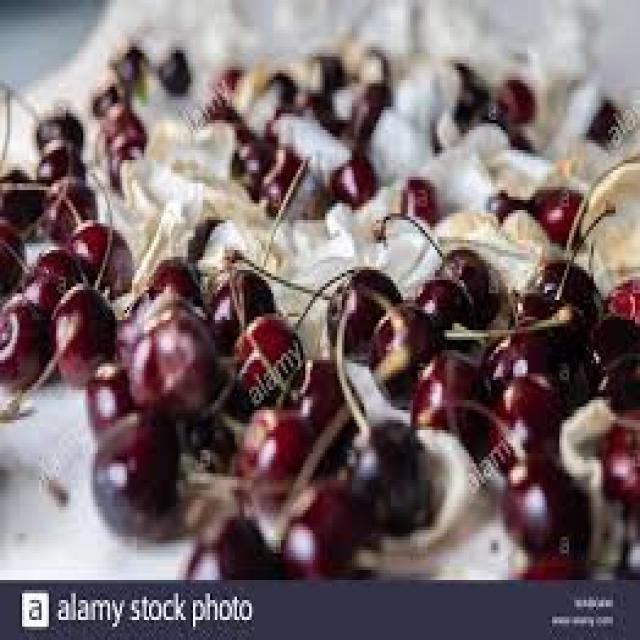organic waste: (476, 324, 589, 444), (90, 407, 181, 540), (125, 297, 218, 413), (347, 417, 432, 530), (276, 356, 362, 466), (501, 444, 584, 554), (279, 477, 376, 570), (230, 404, 320, 504), (410, 343, 486, 450), (501, 287, 584, 370), (325, 266, 398, 356), (234, 310, 300, 407), (486, 374, 557, 464), (366, 303, 435, 390), (49, 280, 110, 377), (183, 370, 247, 460), (66, 217, 132, 293), (210, 267, 269, 350), (210, 503, 279, 570), (432, 243, 486, 327), (523, 257, 601, 313), (252, 123, 303, 207), (17, 246, 86, 306), (410, 276, 469, 346), (39, 166, 98, 236), (0, 290, 44, 383), (601, 403, 637, 507), (530, 176, 581, 246), (584, 317, 637, 383), (588, 350, 638, 413), (227, 130, 276, 190), (110, 290, 151, 357), (86, 354, 124, 424), (149, 256, 200, 306), (306, 80, 354, 133), (393, 170, 435, 230), (0, 163, 39, 227), (327, 147, 374, 200), (439, 57, 484, 110), (508, 546, 584, 576), (103, 127, 144, 180), (37, 137, 83, 183), (581, 96, 623, 146), (349, 77, 388, 130), (598, 270, 638, 320), (156, 44, 193, 94), (0, 213, 22, 297), (34, 110, 83, 147), (100, 100, 142, 140), (252, 70, 296, 107), (305, 50, 347, 87), (486, 77, 533, 110), (488, 183, 528, 220), (108, 43, 144, 80), (432, 110, 467, 143), (352, 40, 381, 77), (86, 80, 118, 113), (498, 116, 532, 146), (195, 97, 237, 120), (472, 103, 506, 127), (208, 70, 240, 90), (227, 116, 252, 136)
